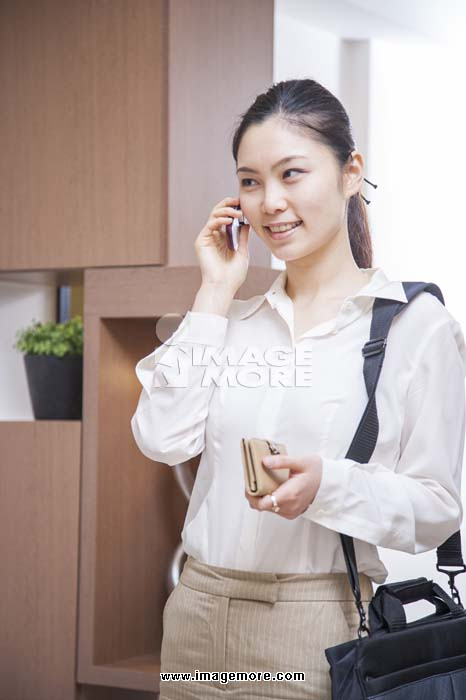talk: (195, 150, 317, 296)
